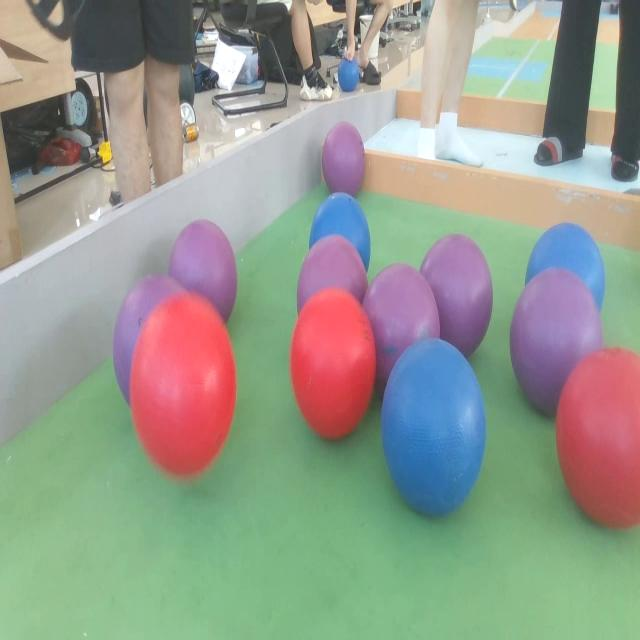blue: (381, 335, 485, 519), (524, 220, 606, 311), (309, 188, 373, 274)
invalid: (510, 269, 600, 407), (112, 276, 191, 414), (362, 259, 438, 387), (422, 228, 493, 361), (169, 220, 240, 321), (297, 240, 367, 324), (320, 126, 366, 204)
red: (130, 292, 236, 478), (557, 347, 640, 529), (289, 288, 376, 438)
